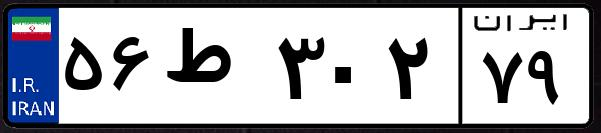0: (330, 28, 385, 110)
2: (385, 28, 445, 110)
3: (270, 28, 330, 110)
5: (57, 26, 110, 100)
6: (110, 28, 158, 98)
7: (475, 38, 525, 113)
9: (525, 38, 570, 115)
ط: (158, 20, 270, 120)
